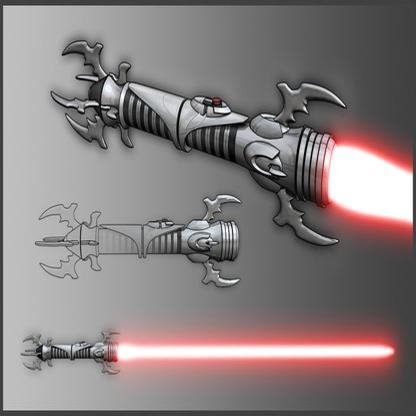sith_lightsaber: (37, 34, 416, 289), (17, 323, 402, 391)
